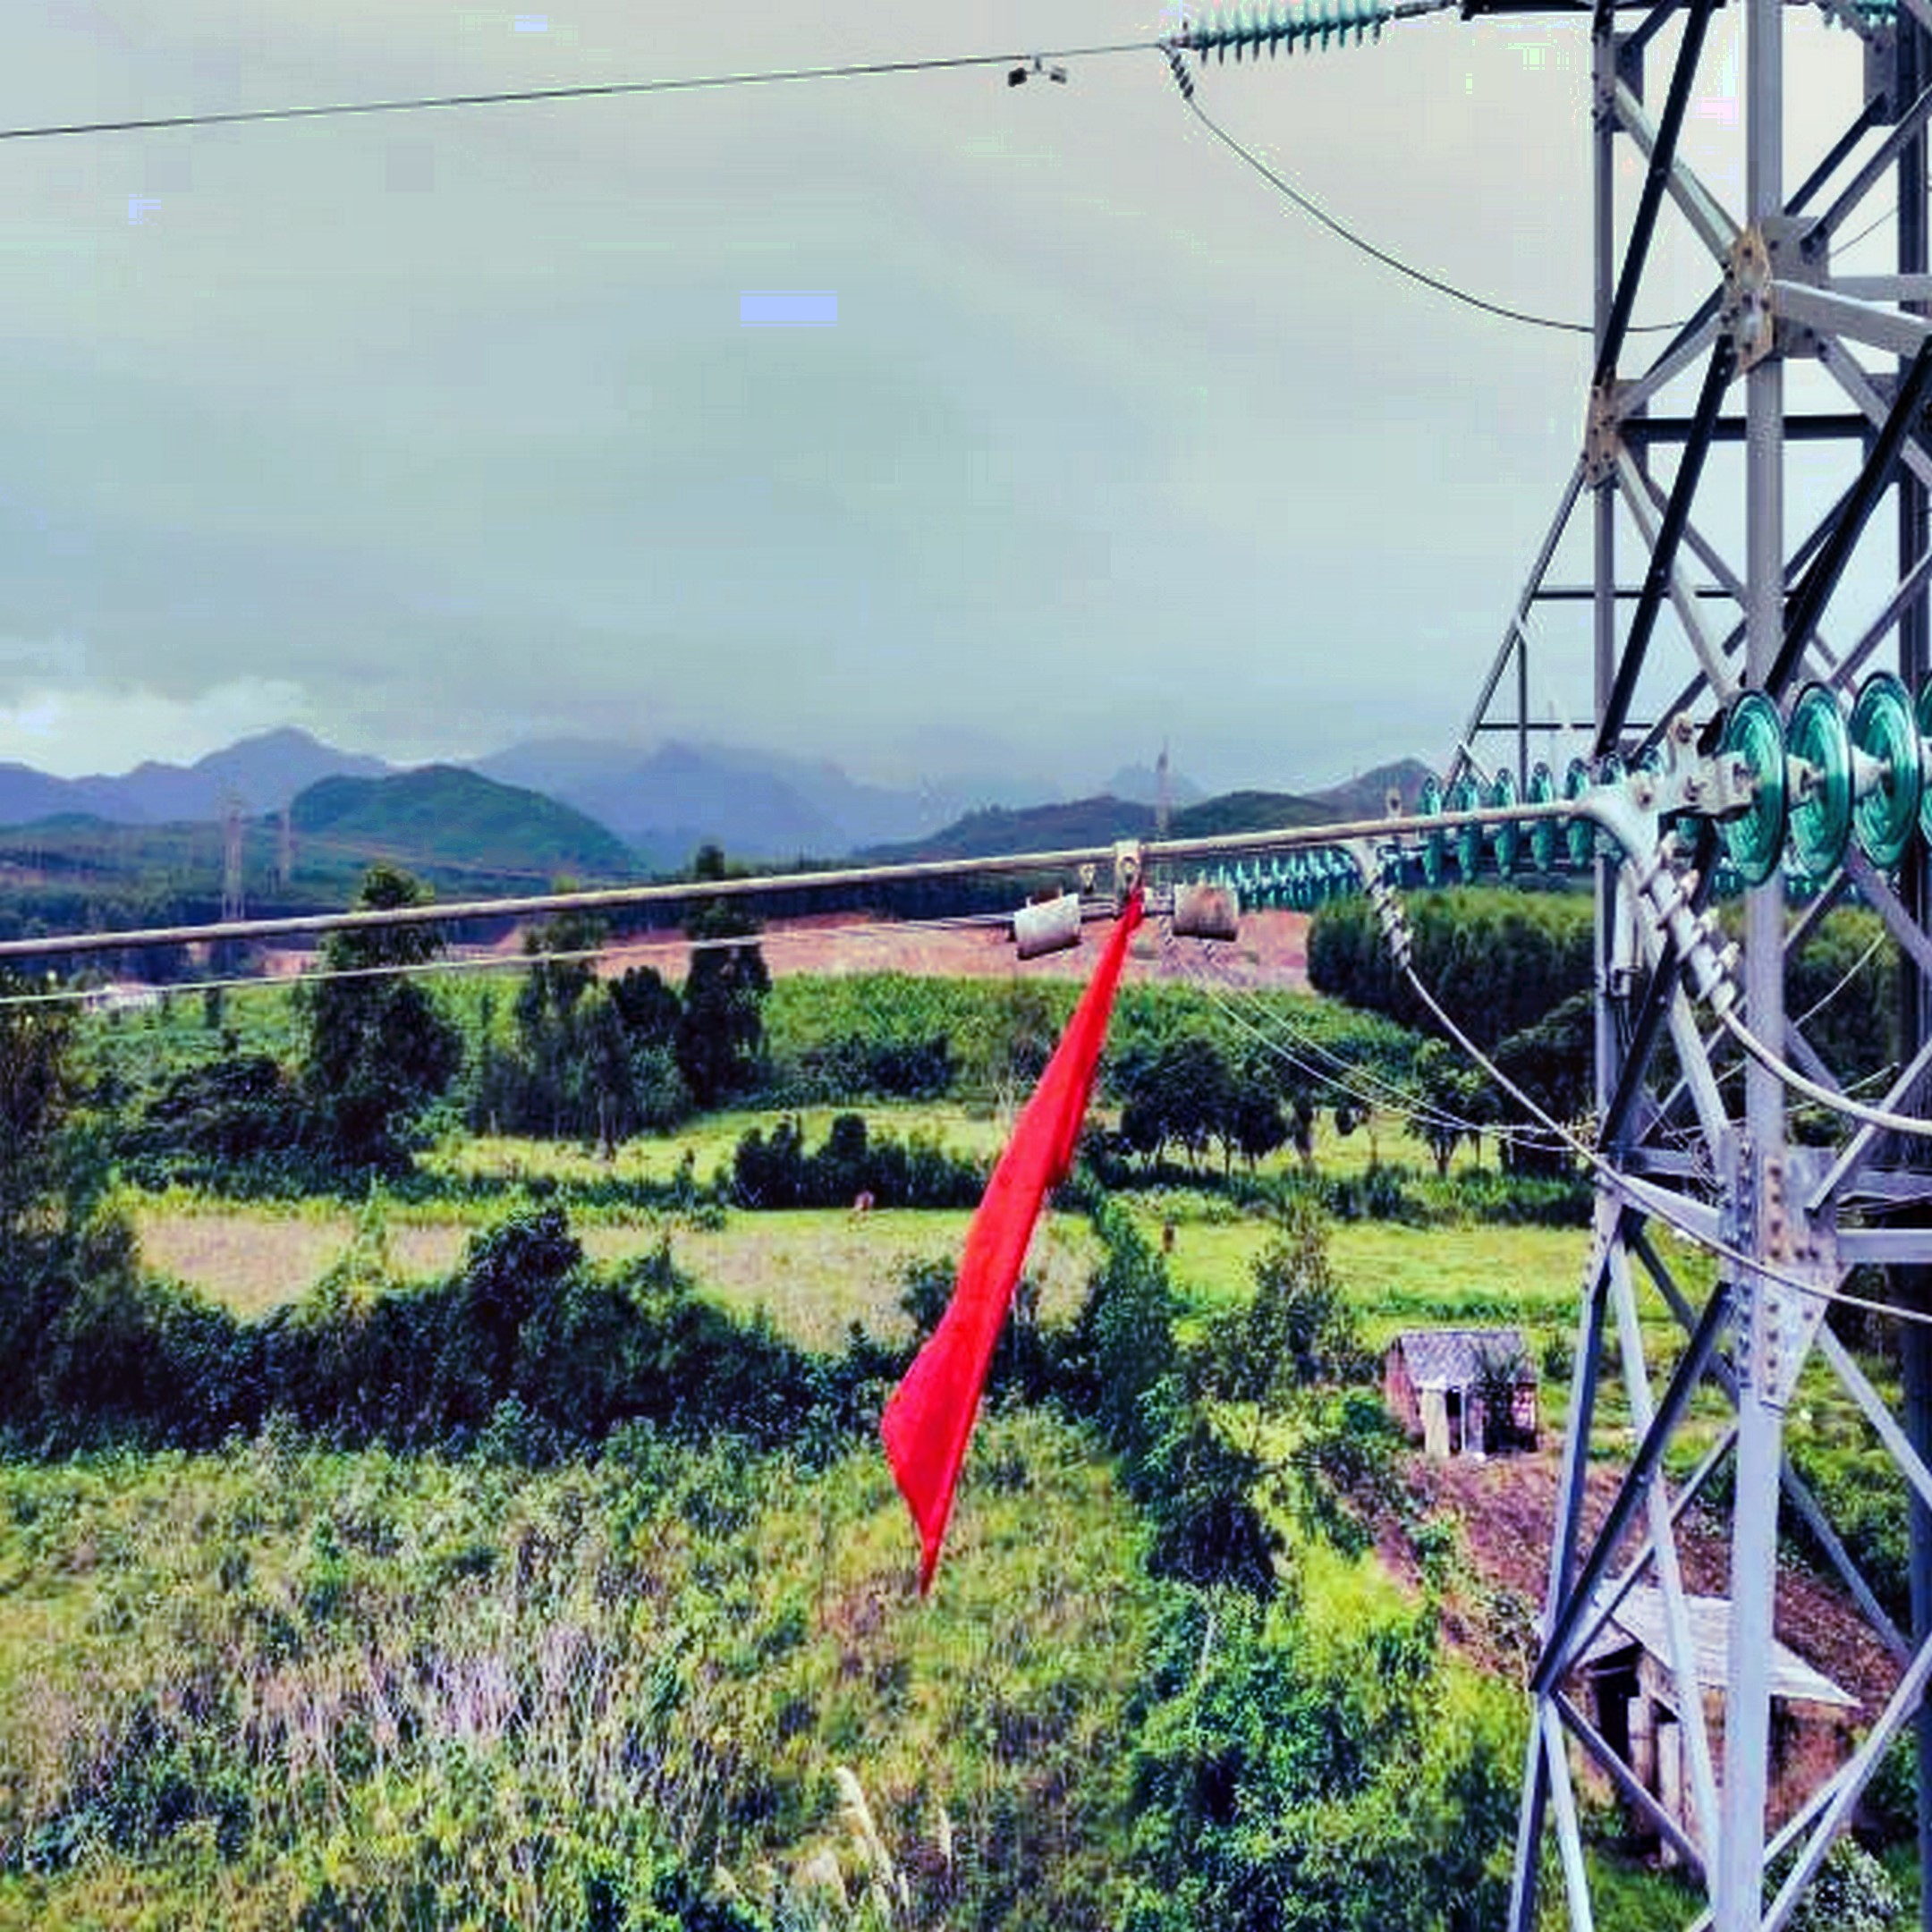wire foreign body: (862, 837, 1210, 1566)
